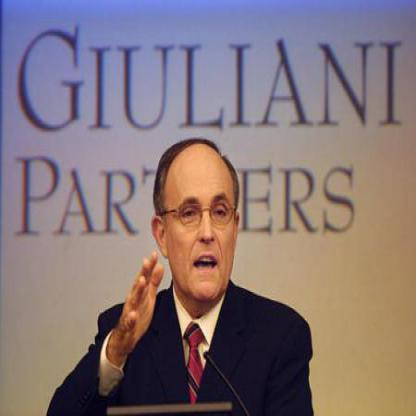face: (165, 140, 239, 303)
